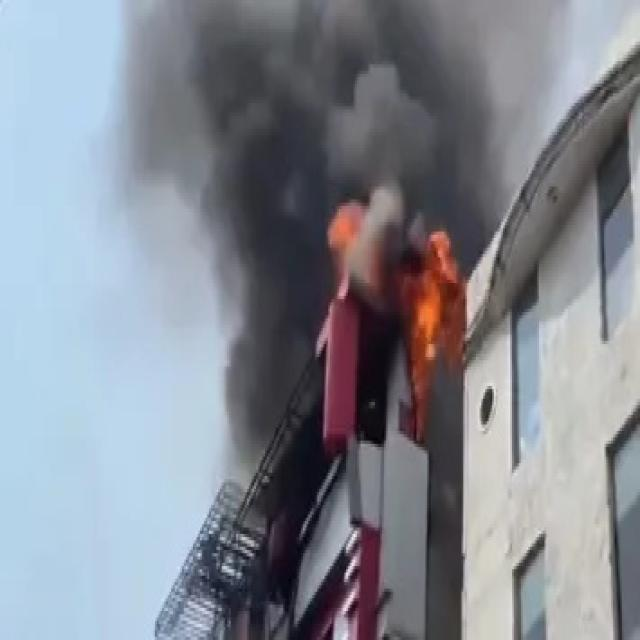fire: (403, 228, 467, 444), (325, 201, 364, 251)
